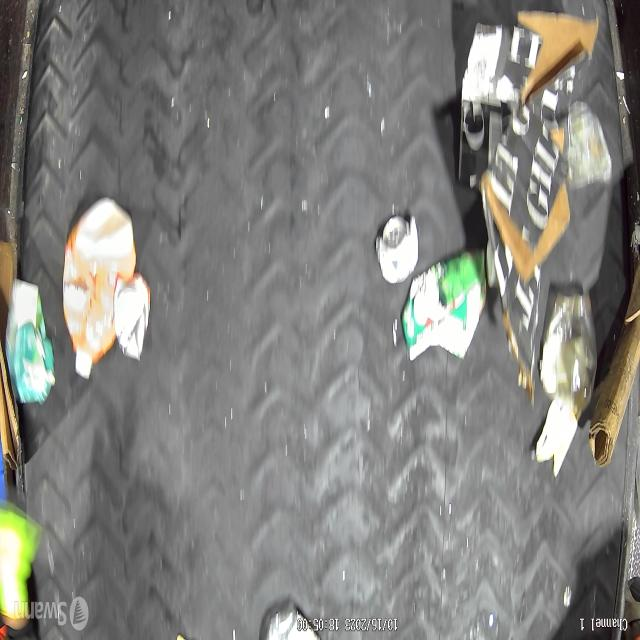can: (374, 213, 418, 283), (114, 274, 150, 359)
non_white_jug: (63, 198, 136, 380), (5, 279, 55, 405)
